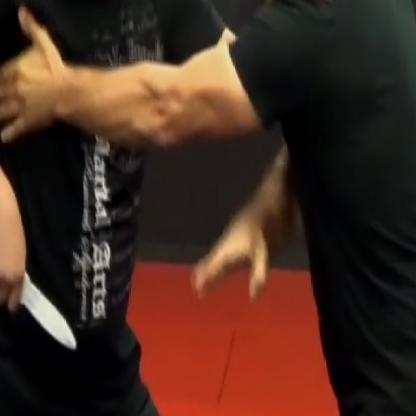knife: (0, 220, 78, 358)
